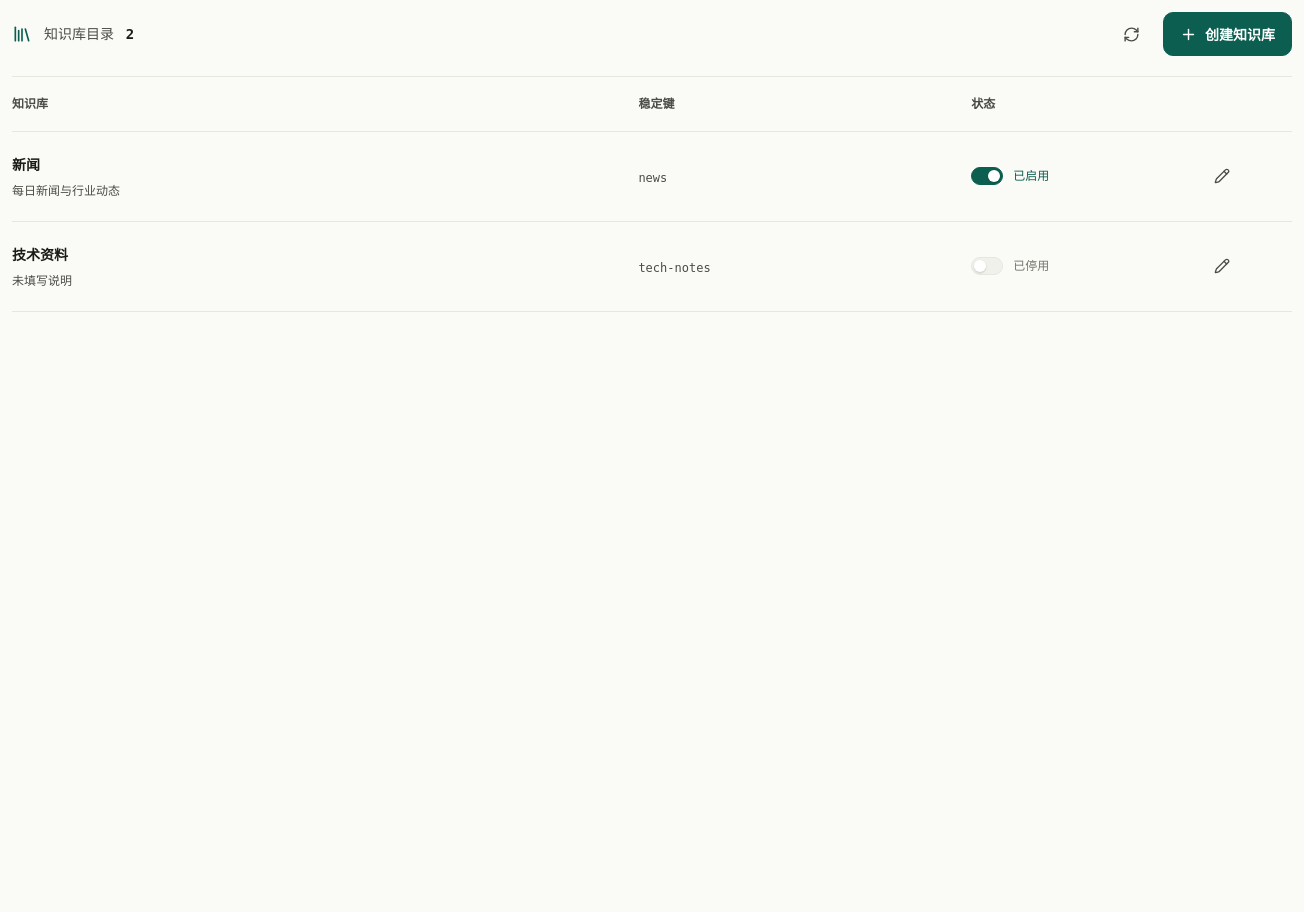
Test: KnowledgeBasesPage › retains form data and shows a conflict without adding a row
Click the button "创建知识库".
click(1228, 34)  # box top-left (1163, 12), bottom-right (1292, 56)
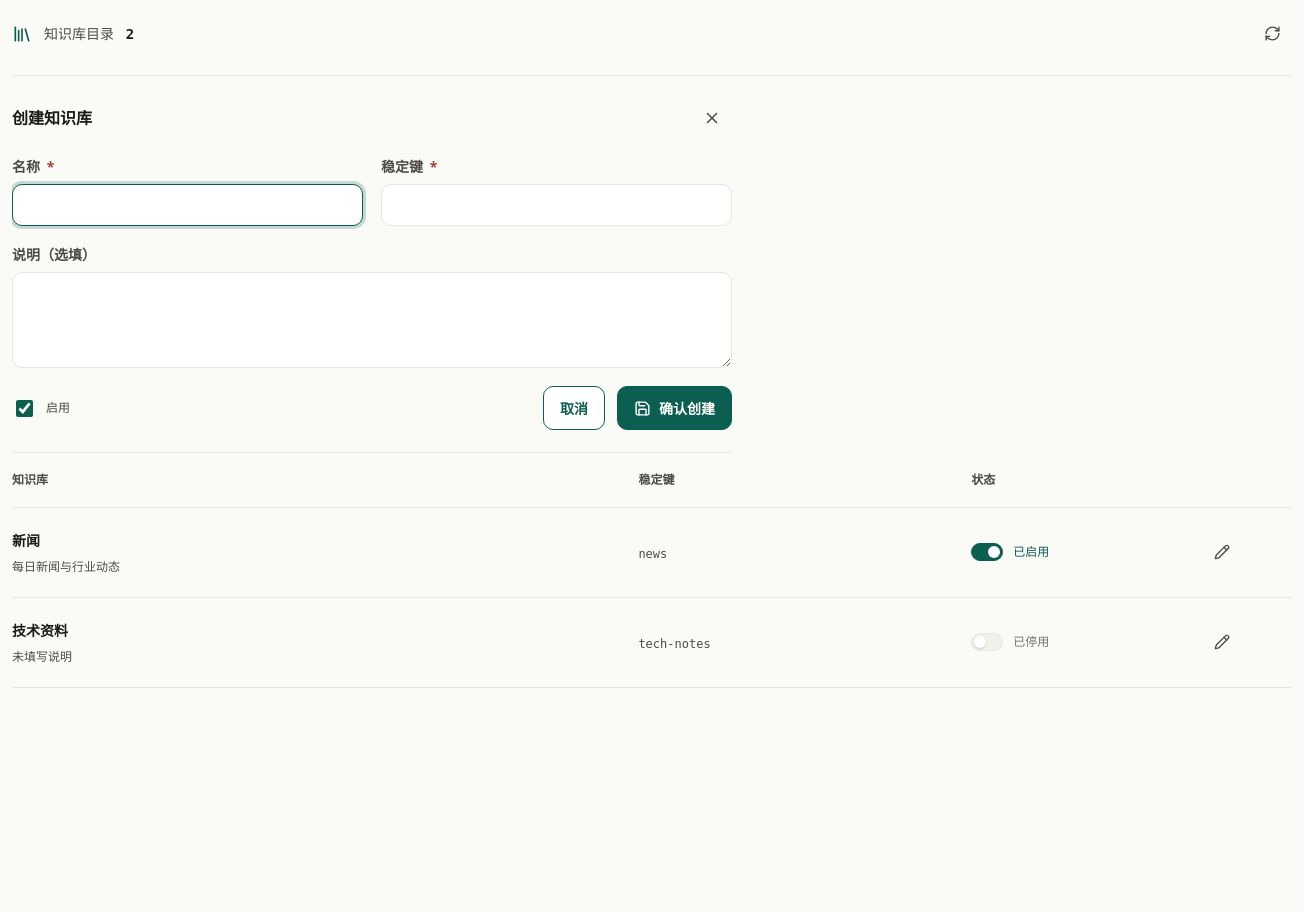
Type "重复新闻" into the field named "knowledge-base-name".
click(188, 205); type("重复新闻")  # box top-left (12, 184), bottom-right (363, 226)
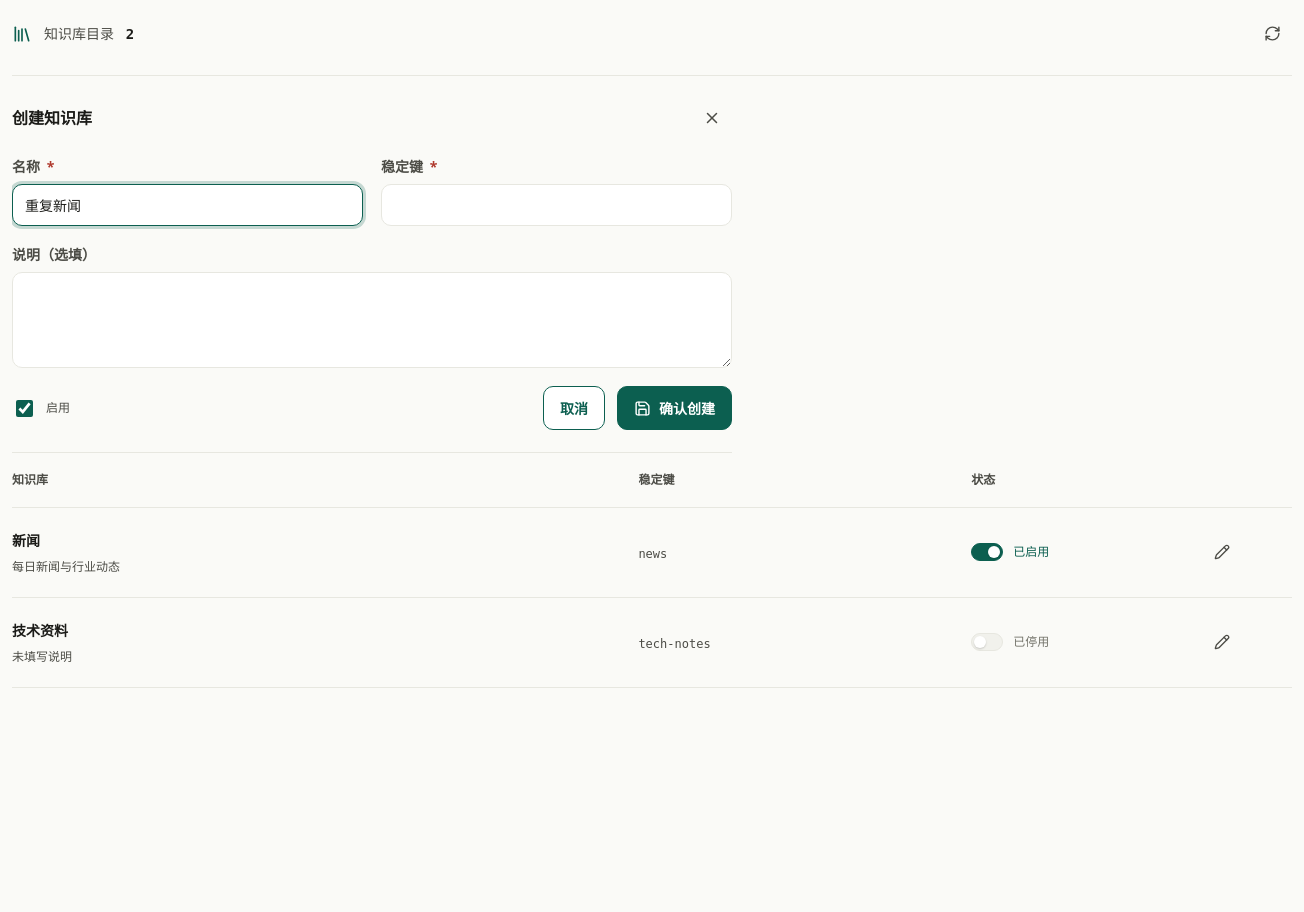
Type "news" into the field named "knowledge-base-key".
click(556, 205); type("news")  # box top-left (381, 184), bottom-right (732, 226)
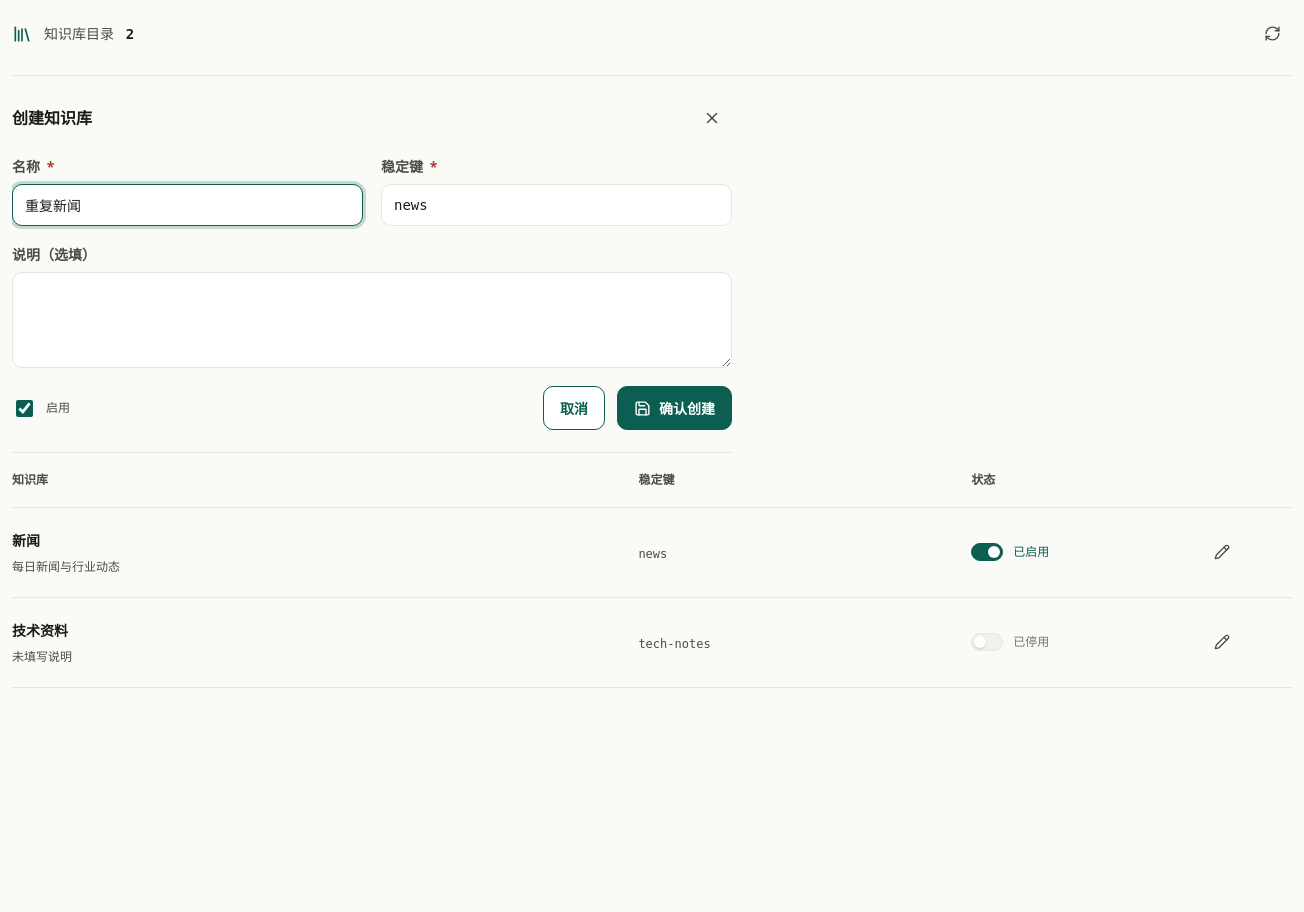
Submit the form, box top-left (12, 76), bottom-right (732, 453)
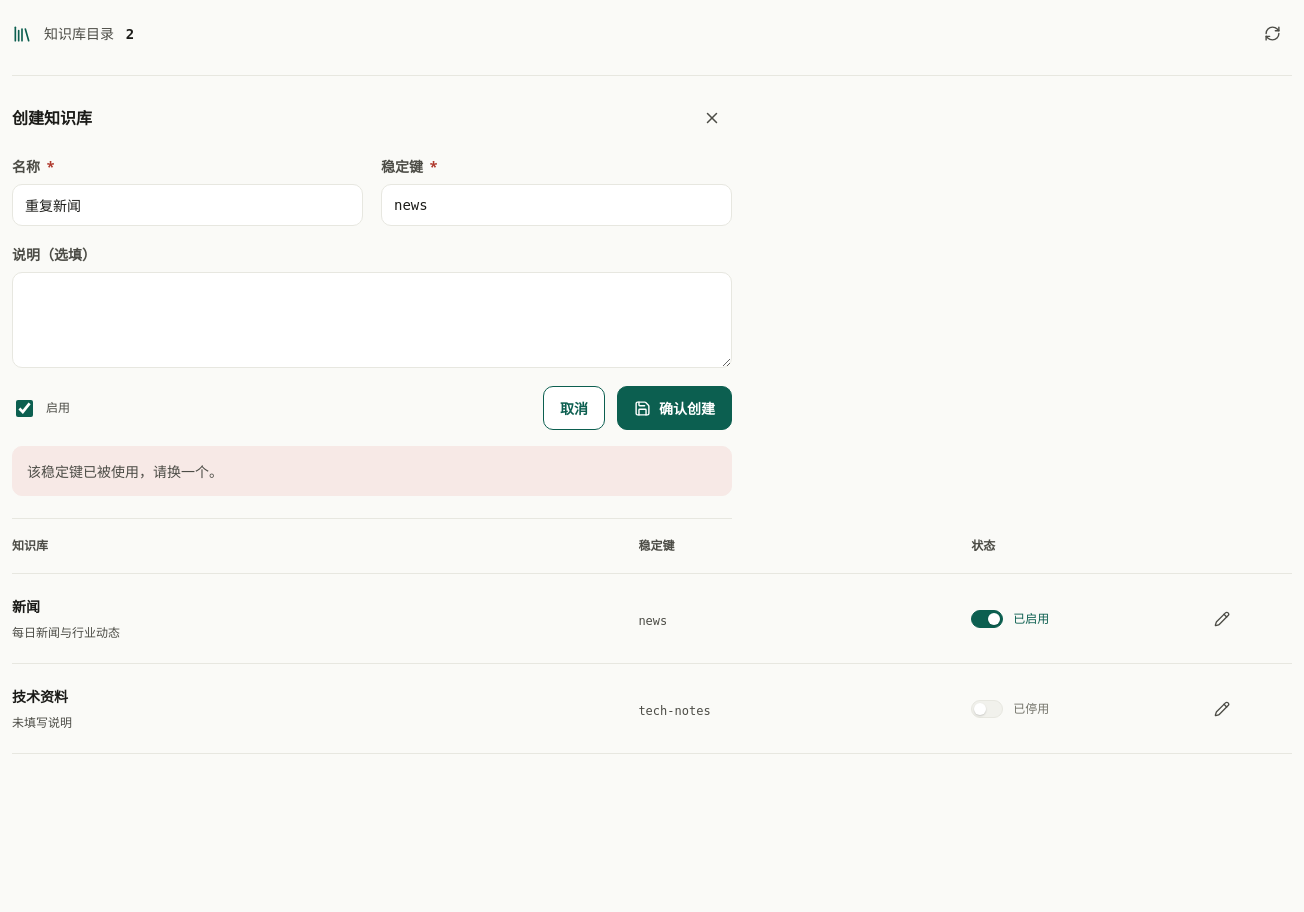
Now the message "该稳定键已被使用，请换一个。" is shown, box top-left (12, 446), bottom-right (732, 496)
